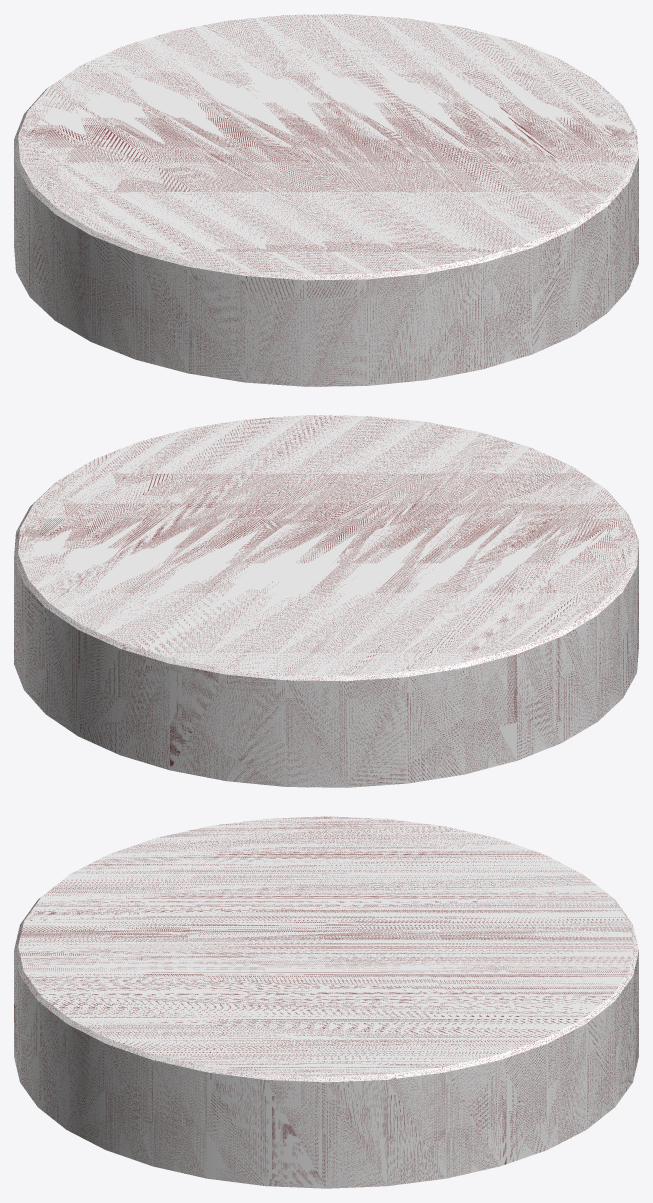
File: original-4.obj
3 renders of one model, top to bottom at view 1: azimuth 30°, elevation 25°; view 2: azimuth 150°, elevation 25°; view 3: azimuth 270°, elevation 25°, orthographic.
Visible parts, largest first — view 1: mesh3/mesh3-geometry#mesh3-geometry; view 2: mesh3/mesh3-geometry#mesh3-geometry; view 3: mesh3/mesh3-geometry#mesh3-geometry.
Boxes of the visible parts, left/top/right/bottom form: mesh3/mesh3-geometry#mesh3-geometry: left=14, top=14, right=638, bottom=386; mesh3/mesh3-geometry#mesh3-geometry: left=14, top=415, right=638, bottom=787; mesh3/mesh3-geometry#mesh3-geometry: left=14, top=816, right=638, bottom=1188.
Bounding box in the file's own units: 0.306 × 0.0595 × 0.306.
